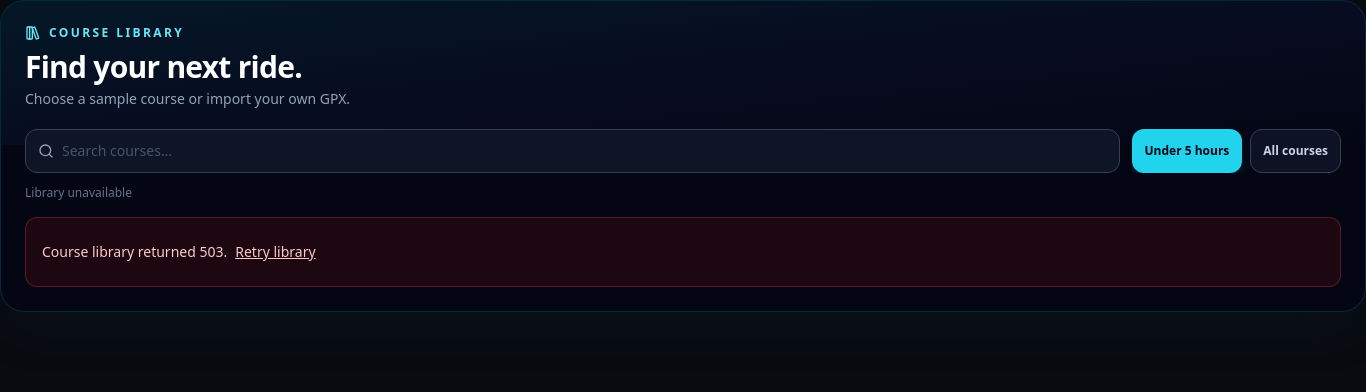
Scenario: public course library boundaries › recovers from a failed library request with Retry
expect the message "Course library returned 503. Retry library" is shown: met, box [25,217,1341,287]
Click the button "Retry library": coordinates (275, 252) [235,230,316,274]
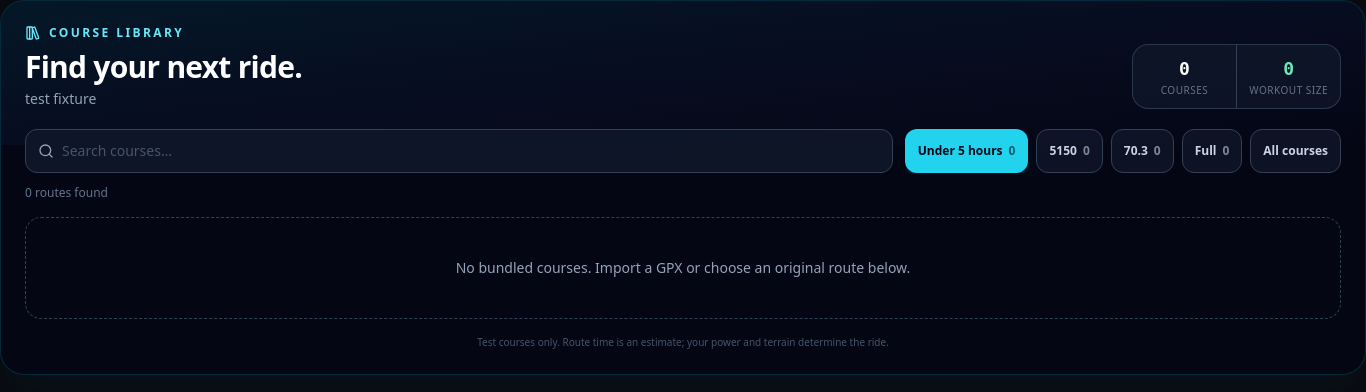
expect the text "No bundled courses" is shown: met, box [456,258,910,277]
expect the message "Course library returned 503. Retry library" is gone: met
